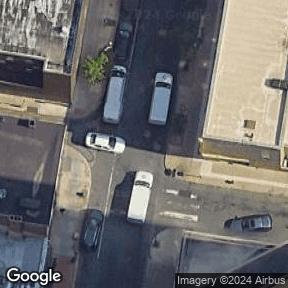vegetation: (79, 51, 115, 86)
